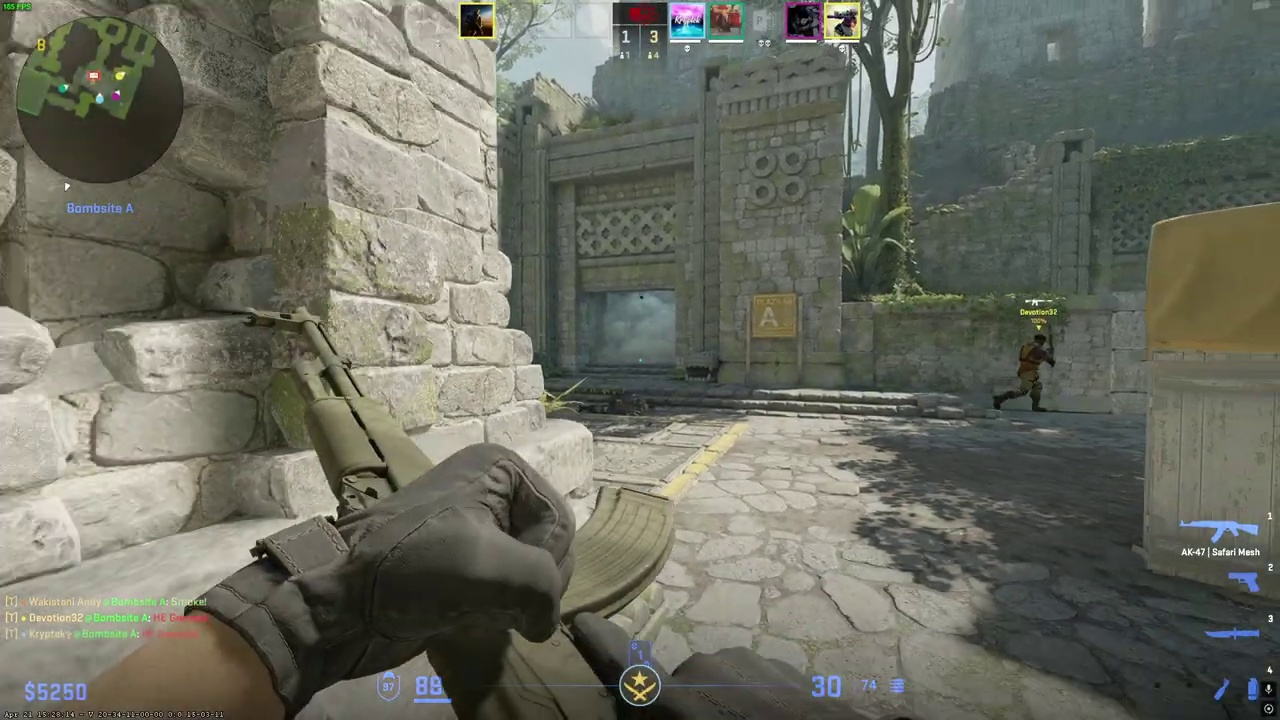Terrorist: (999, 332, 1053, 415)
